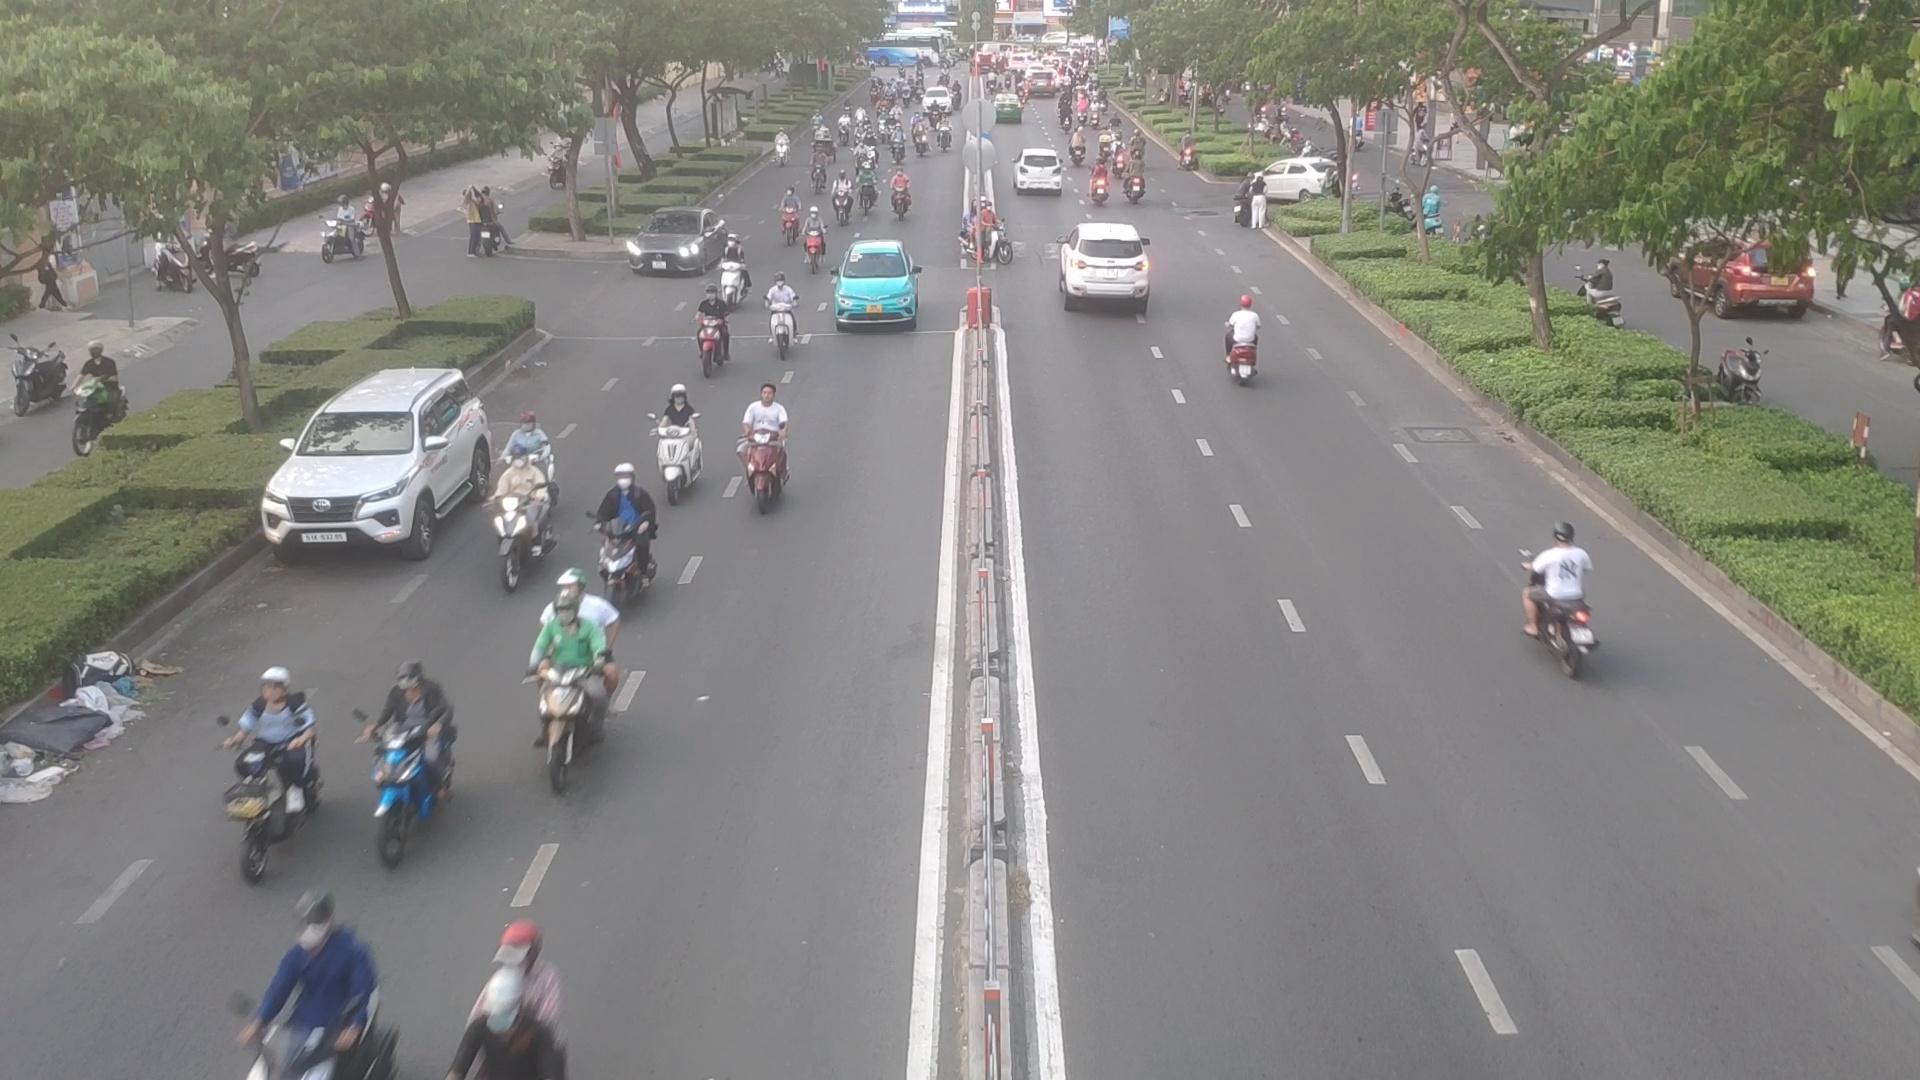car: (262, 364, 495, 567), (829, 237, 928, 331), (1062, 223, 1156, 313), (621, 208, 735, 278), (1253, 160, 1338, 200), (1015, 146, 1072, 191)
motorbike: (224, 663, 327, 858), (538, 556, 615, 798), (371, 653, 458, 864), (1507, 517, 1602, 679), (485, 447, 553, 604), (595, 487, 665, 593), (740, 381, 787, 513), (640, 382, 699, 481), (698, 282, 731, 371), (968, 198, 1007, 266), (1229, 295, 1255, 389), (766, 278, 796, 356), (720, 231, 752, 305), (775, 181, 804, 247), (804, 207, 827, 269), (855, 162, 880, 216), (1121, 152, 1146, 204), (831, 171, 852, 225), (1089, 160, 1112, 202), (890, 171, 909, 222), (887, 123, 903, 166), (773, 132, 791, 167), (1110, 138, 1126, 179), (936, 117, 953, 152), (814, 146, 825, 190), (915, 120, 928, 156), (855, 137, 866, 171)
